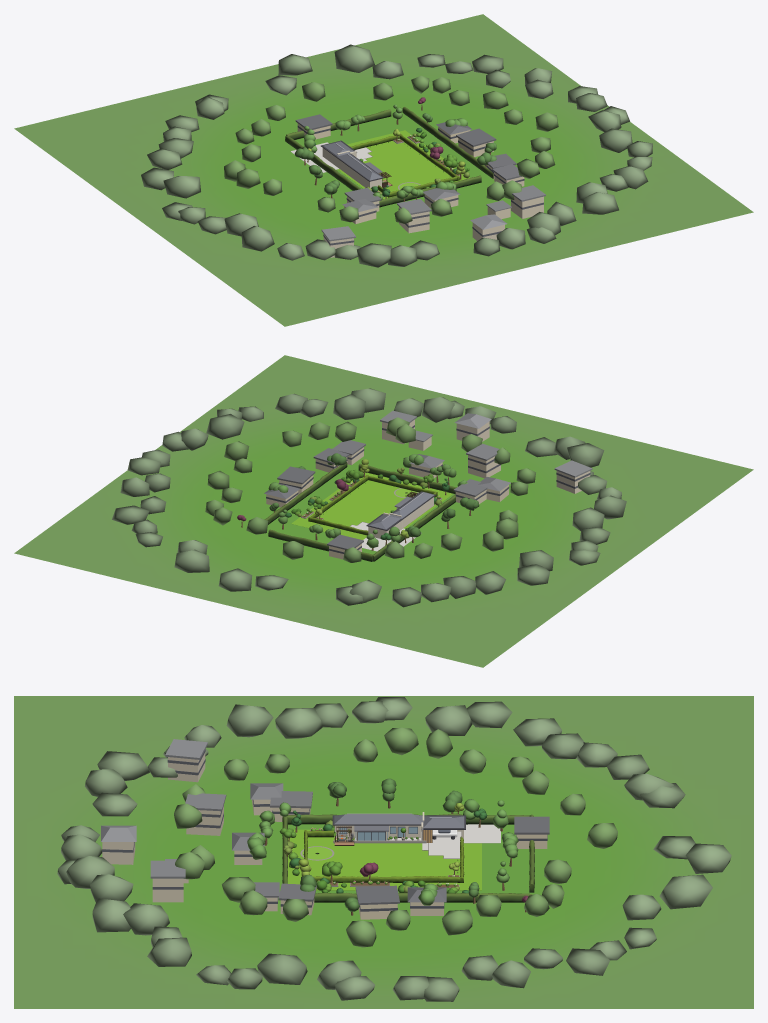
Rendered from garden.glb.
3 views of the same model, one above another, from view 1: azimuth 30°, elevation 25°; view 2: azimuth 150°, elevation 25°; view 3: azimuth 270°, elevation 25° (orthographic). The views are drawn at different scales.
Visible parts, largest first — view 1: garden_lawn_outer, garden_skyline_far, garden_skyline_mid, garden_distant_roof, garden_distant_bg, garden_lawn_green, garden_hedge_far, garden_skyline_near_a, garden_skyline_near_b, garden_hedge, garden_distant_window, garden_roof_charcoal (+1 smaller); view 2: garden_lawn_outer, garden_skyline_far, garden_skyline_mid, garden_distant_roof, garden_distant_bg, garden_lawn_green, garden_hedge_far, garden_skyline_near_a, garden_hedge, garden_distant_window, garden_skyline_near_b, garden_roof_charcoal (+1 smaller); view 3: garden_lawn_outer, garden_skyline_far, garden_skyline_mid, garden_distant_roof, garden_lawn_green, garden_distant_bg, garden_hedge_far, garden_skyline_near_a, garden_paving_gray, garden_skyline_near_b, garden_roof_charcoal, garden_hedge (+3 smaller).
Boxes of the visible parts, <box> form: garden_lawn_outer: <box>14,14,753,326</box>; garden_skyline_far: <box>141,44,652,267</box>; garden_skyline_mid: <box>224,75,558,223</box>; garden_distant_roof: <box>295,114,545,241</box>; garden_distant_bg: <box>297,123,543,257</box>; garden_lawn_green: <box>337,130,469,199</box>; garden_hedge_far: <box>285,107,493,207</box>; garden_skyline_near_a: <box>302,104,467,200</box>; garden_skyline_near_b: <box>294,113,496,194</box>; garden_hedge: <box>350,134,459,197</box>; garden_distant_window: <box>297,125,543,245</box>; garden_roof_charcoal: <box>323,141,382,180</box>; garden_lawn_outer: <box>14,355,753,667</box>; garden_skyline_far: <box>112,388,626,607</box>; garden_skyline_mid: <box>205,417,535,562</box>; garden_distant_roof: <box>264,410,592,549</box>; garden_distant_bg: <box>266,419,590,559</box>; garden_lawn_green: <box>291,472,452,539</box>; garden_hedge_far: <box>264,462,456,561</box>; garden_skyline_near_a: <box>268,454,467,548</box>; garden_hedge: <box>308,475,437,535</box>; garden_distant_window: <box>266,425,590,553</box>; garden_skyline_near_b: <box>269,453,479,537</box>; garden_roof_charcoal: <box>369,492,433,529</box>; garden_lawn_outer: <box>14,696,753,1008</box>; garden_skyline_far: <box>57,697,731,1001</box>; garden_skyline_mid: <box>174,727,617,947</box>; garden_distant_roof: <box>101,739,549,904</box>; garden_lawn_green: <box>287,829,481,890</box>; garden_distant_bg: <box>102,752,547,919</box>; garden_hedge_far: <box>282,813,534,902</box>; garden_skyline_near_a: <box>247,799,518,905</box>; garden_paving_gray: <box>355,824,500,858</box>; garden_skyline_near_b: <box>300,778,479,911</box>; garden_roof_charcoal: <box>334,814,464,829</box>; garden_hedge: <box>303,830,464,882</box>.
Size of the model in its own units: 120 by 7.44 by 120.
